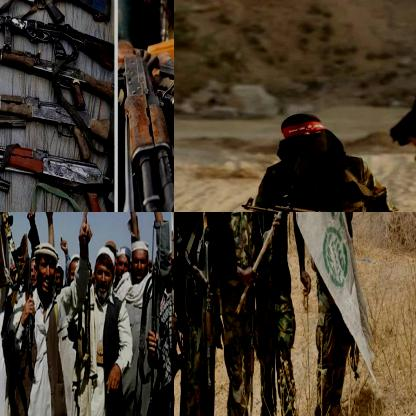rifle: (0, 131, 116, 211), (117, 50, 173, 211), (0, 85, 115, 162), (0, 34, 114, 111), (0, 7, 114, 71), (194, 212, 217, 394), (229, 191, 402, 211), (141, 250, 163, 407), (0, 0, 112, 24), (20, 253, 38, 386), (0, 212, 22, 291), (140, 75, 173, 124)
